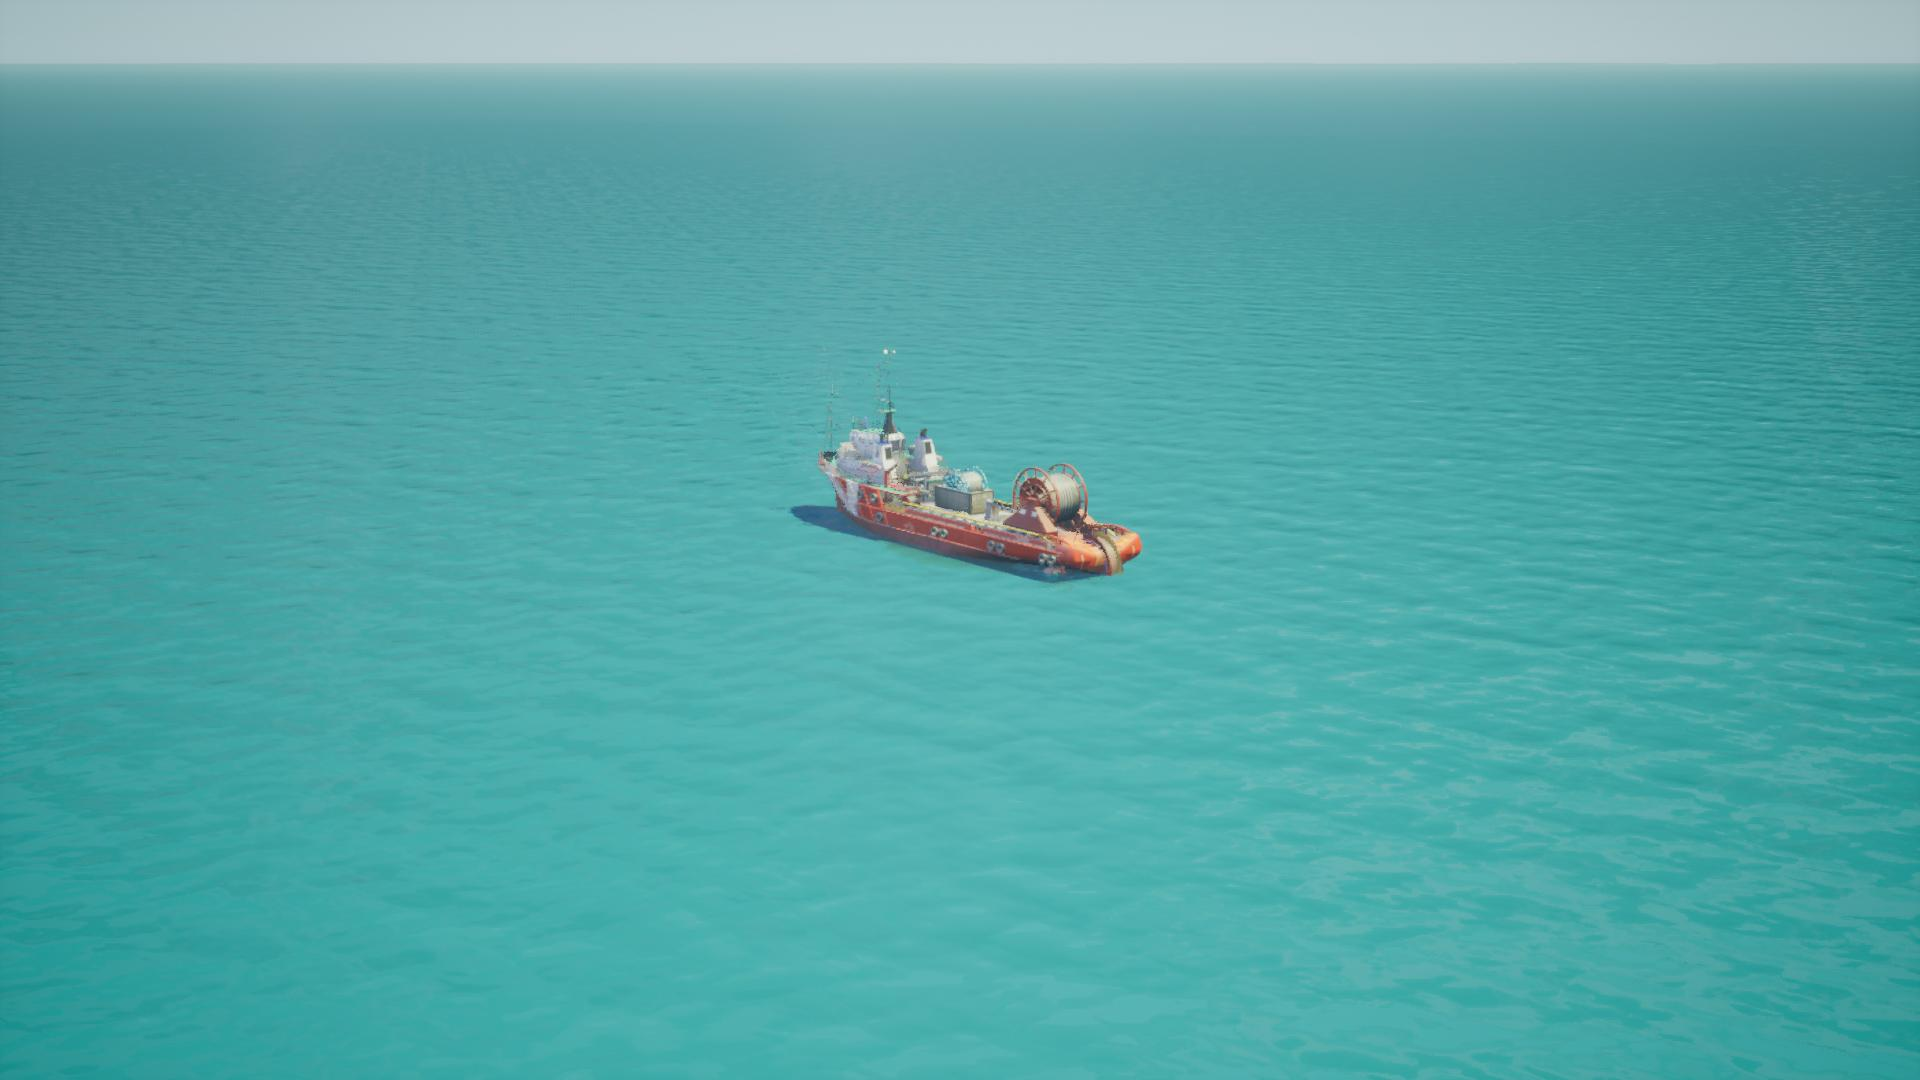Tug Boat: (794, 348, 1134, 585)
